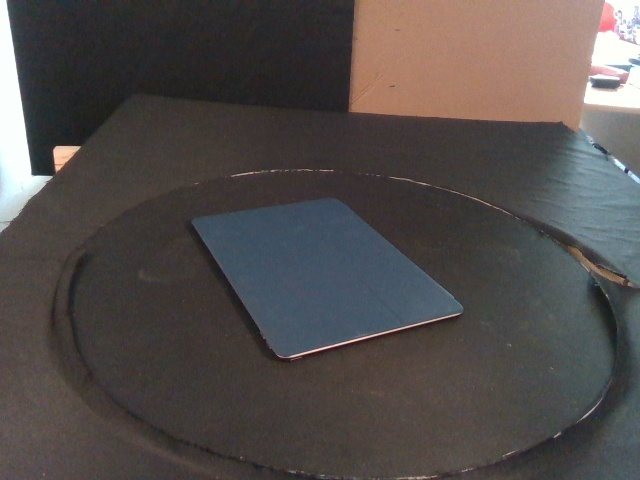laptop: (190, 198, 463, 361)
